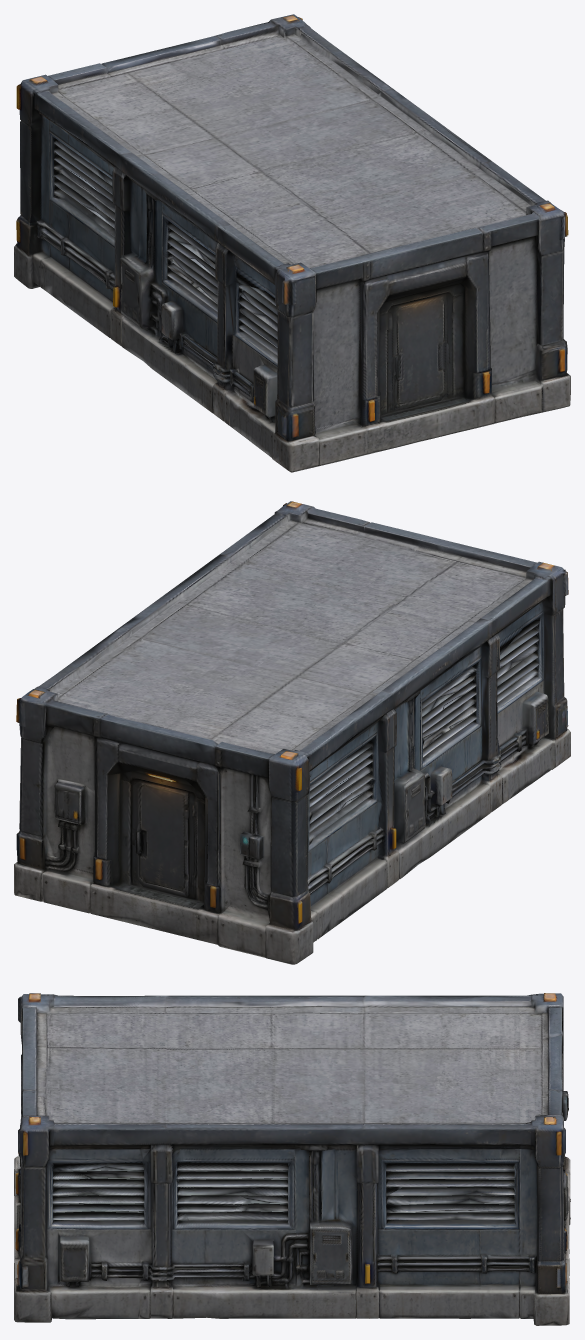
Rendered from kairox-utility-room.glb.
3 views of the same model, one above another, from view 1: azimuth 30°, elevation 25°; view 2: azimuth 150°, elevation 25°; view 3: azimuth 270°, elevation 25° (orthographic).
Parts seen in each view (by area): view 1: kairox-utility-room; view 2: kairox-utility-room; view 3: kairox-utility-room.
Part boxes in pixels (box(x1,y1,x2,y2)): kairox-utility-room: box(14, 14, 570, 472); kairox-utility-room: box(14, 501, 570, 964); kairox-utility-room: box(14, 993, 570, 1325).
Bounding box in the file's own units: 6 × 4 × 10.
1 material, 1 textured.
